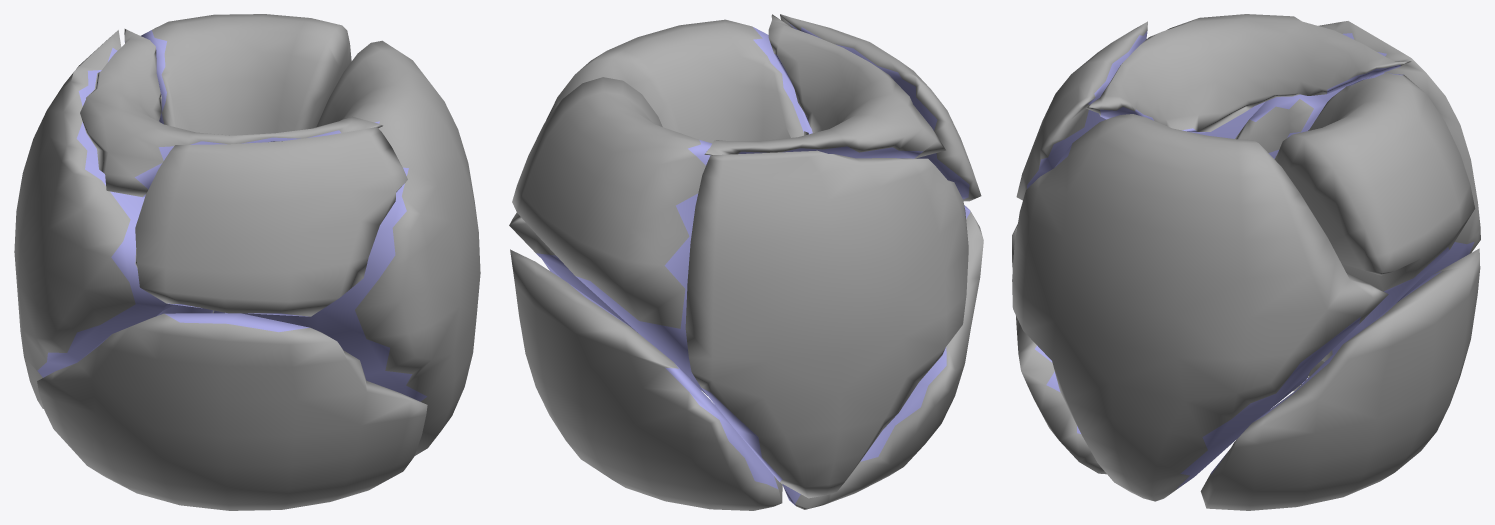
The picture shows the model from 3 angles, left to right: view 1: azimuth 30°, elevation 25°; view 2: azimuth 150°, elevation 25°; view 3: azimuth 270°, elevation 25°; orthographic projection.
Parts seen in each view (by area): view 1: pTorus2; view 2: pTorus2; view 3: pTorus2.
Boxes of the visible parts, x1,y1,x2,y2 form: pTorus2: (14, 14, 480, 510); pTorus2: (509, 14, 983, 510); pTorus2: (1012, 14, 1480, 510).
Size of the model in its own units: 12.56 by 10.63 by 12.38.
